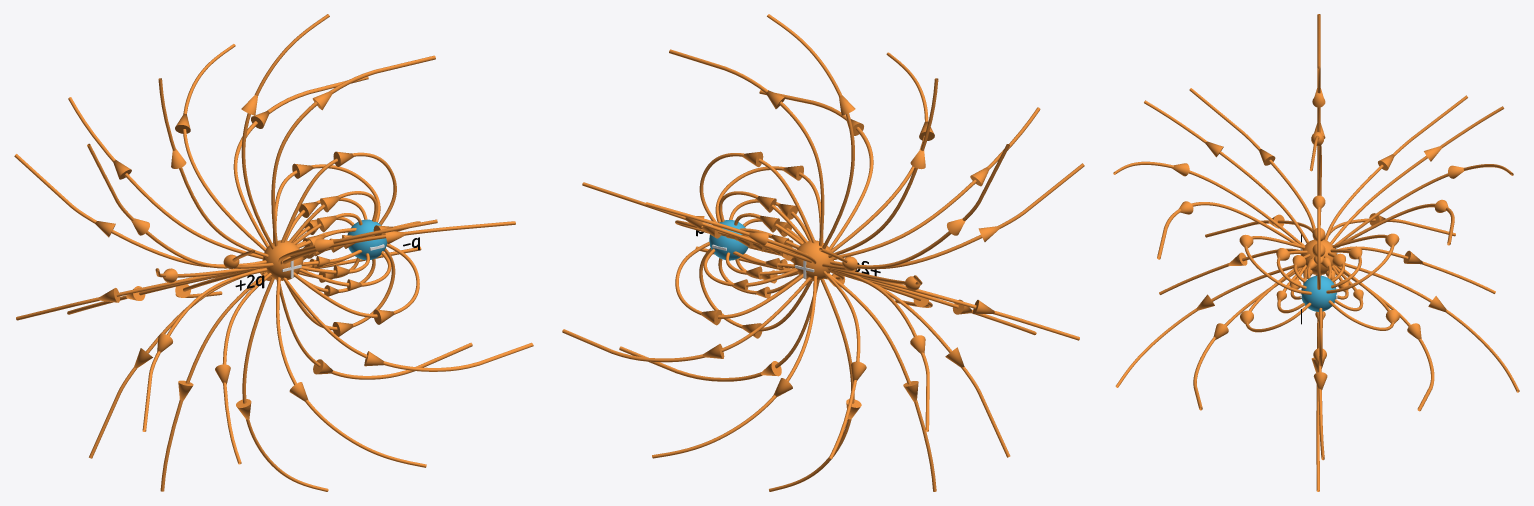
The picture shows the model from 3 angles, left to right: view 1: azimuth 30°, elevation 25°; view 2: azimuth 150°, elevation 25°; view 3: azimuth 270°, elevation 25°; orthographic projection. The views are drawn at different scales.
Parts seen in each view (by area): view 1: pasted__pasted__sweep7, pasted__pasted__pasted__sweep7, pasted__pasted__pasted__pasted__sweep7, pasted__pasted__pasted__pasted__pasted__pasted__pasted__pas., pasted__pasted__pasted__pasted__pasted__pasted__pasted__pas, pSphere1, pSphere2; view 2: pasted__pasted__pasted__sweep7, pasted__pasted__pasted__pasted__sweep7, pasted__pasted__sweep7, pasted__pasted__pasted__pasted__pasted__pasted__pasted__pas. (×2), pasted__pasted__pasted__pasted__pasted__pasted__pasted__pas, pSphere1, pSphere2; view 3: pasted__pasted__pasted__pasted__sweep7, pasted__pasted__sweep7, pasted__pasted__pasted__pasted__pasted__pasted__pasted__pas. (×2), pasted__pasted__pasted__sweep7, pasted__pasted__pasted__pasted__pasted__pasted__pasted__pas, pSphere2, pSphere1.
Boxes of the visible parts, x1,y1,x2,y2 form: pasted__pasted__sweep7: (14,44,533,467); pasted__pasted__pasted__sweep7: (87,14,472,491); pasted__pasted__pasted__pasted__sweep7: (16,219,515,320); pasted__pasted__pasted__pasted__pasted__pasted__pasted__pas.: (273,163,419,324); pasted__pasted__pasted__pasted__pasted__pasted__pasted__pas: (280,151,396,336); pSphere1: (262,240,303,280); pSphere2: (347,219,387,260); pasted__pasted__pasted__sweep7: (619,14,1010,491); pasted__pasted__pasted__pasted__sweep7: (562,52,1084,458); pasted__pasted__sweep7: (582,182,1079,340); pasted__pasted__pasted__pasted__pasted__pasted__pasted__pas. (×2): (675,165,823,325); pasted__pasted__pasted__pasted__pasted__pasted__pasted__pas: (699,151,815,338); pSphere1: (793,240,833,280); pSphere2: (709,220,748,260); pasted__pasted__pasted__pasted__sweep7: (1113,88,1519,411); pasted__pasted__sweep7: (1115,95,1513,410); pasted__pasted__pasted__pasted__pasted__pasted__pasted__pas. (×2): (1239,233,1399,332); pasted__pasted__pasted__sweep7: (1309,14,1327,491); pasted__pasted__pasted__pasted__pasted__pasted__pasted__pas: (1312,195,1326,366); pSphere2: (1301,275,1336,311); pSphere1: (1301,239,1336,274).
Bounding box in the file's own units: 0.2253 × 0.2584 × 0.2233.
